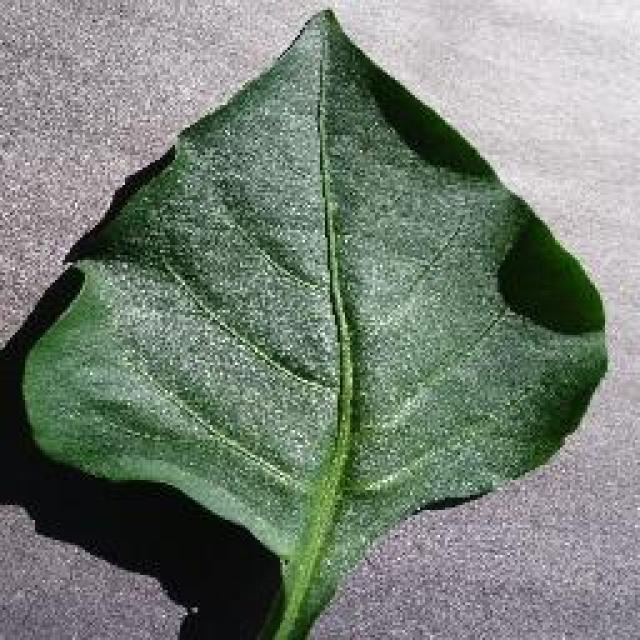Chilli_Healthy: (15, 5, 610, 637)
